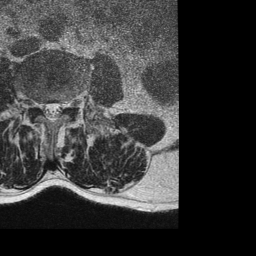CCS_normal: (49, 98, 56, 125)
LFS_normal: (63, 94, 70, 114)
LLS_normal: (56, 97, 63, 120)
RFS_stenosis: (33, 95, 41, 113)
RLS_normal: (42, 98, 49, 121)
